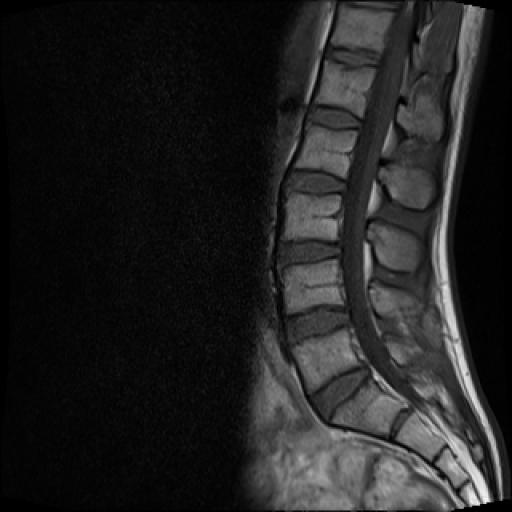L1: (316, 60, 376, 118)
L2: (294, 125, 358, 178)
L3: (281, 192, 342, 242)
L4: (284, 259, 344, 314)
L5: (291, 328, 365, 394)
S1: (332, 380, 407, 436)
